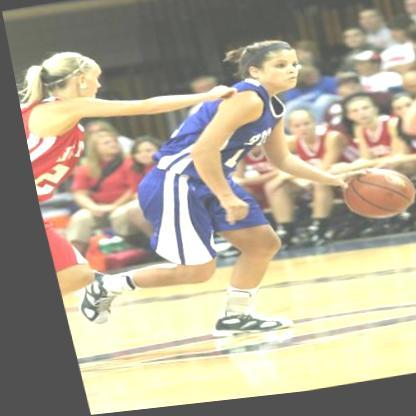basketball: (329, 172, 412, 230)
